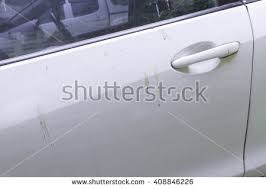Scratch: (151, 32, 178, 42)
